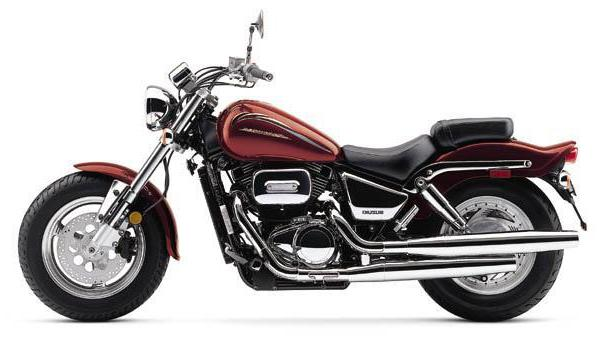motorcycle: (12, 8, 596, 337)
